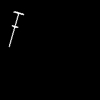double_crochet: (9, 12, 23, 45)
